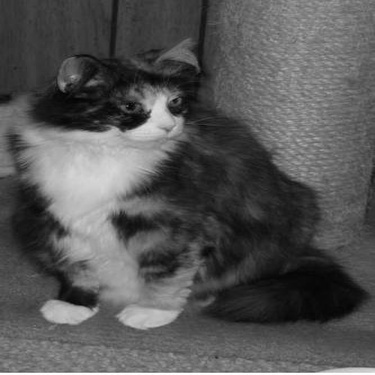cat: (2, 26, 370, 337)
